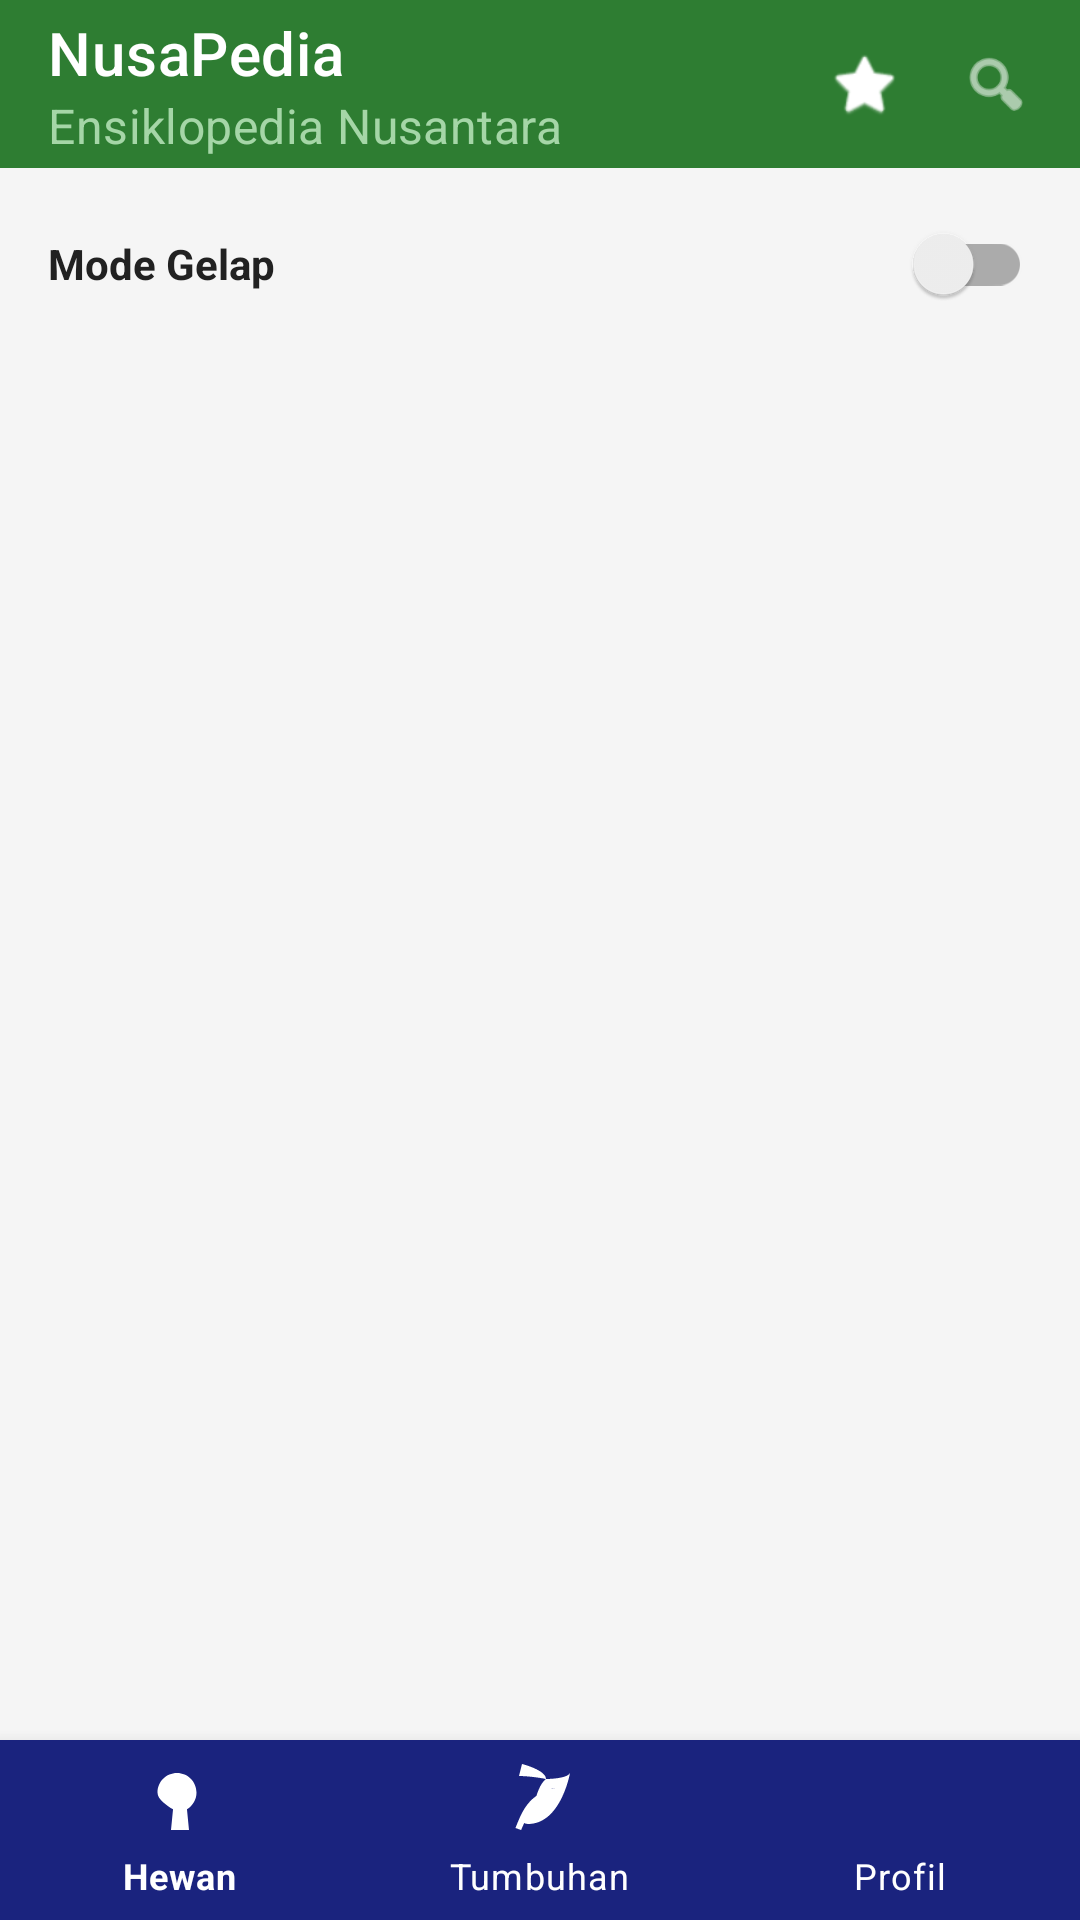

Where to tap for icons on this 1080 x 1920 app screen, as point (x, y):
search: point (996, 84)
